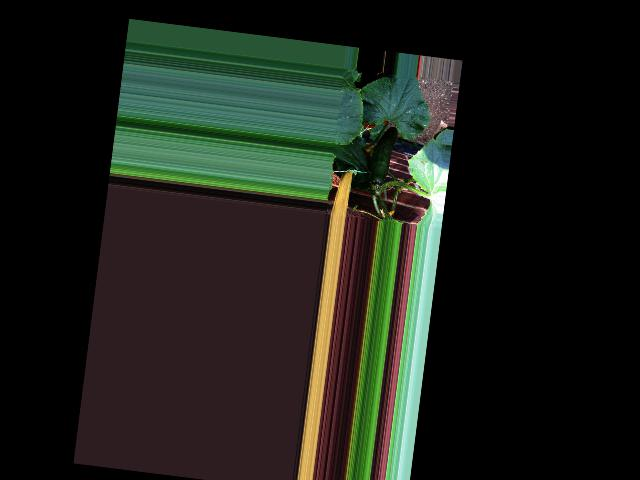cucumber: (368, 124, 399, 187)
